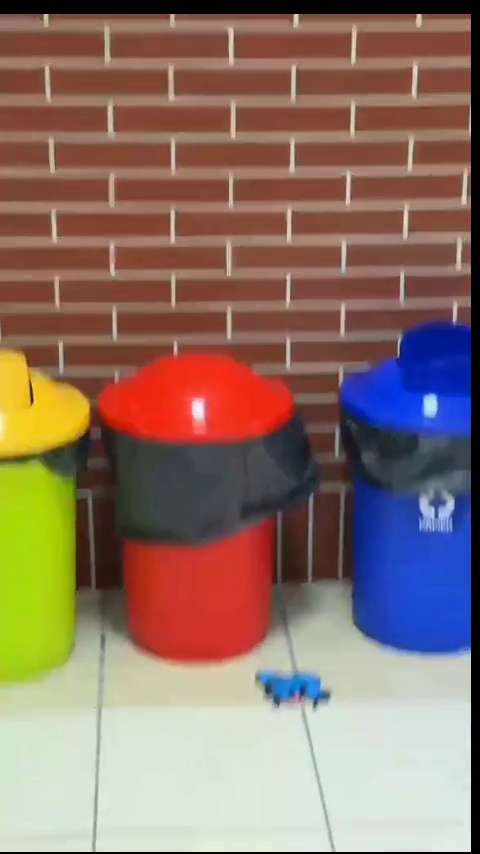drone: (251, 668, 326, 709)
